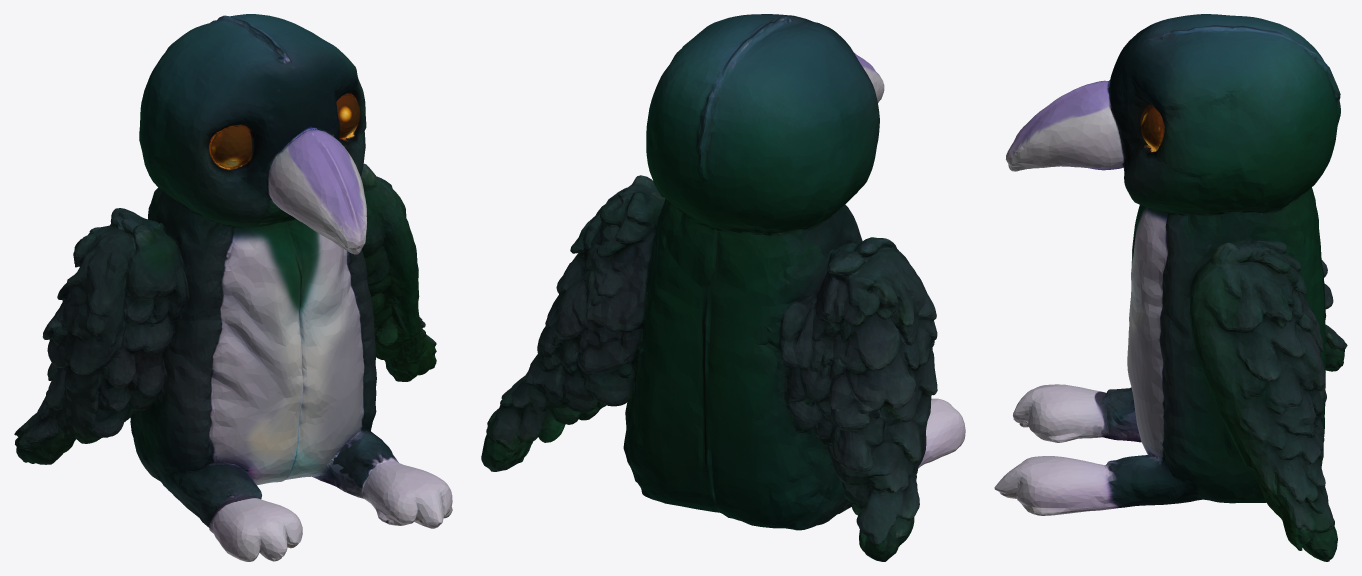
The model's file is corvo_hunyuan.glb.
The picture shows the model from 3 angles, left to right: view 1: azimuth 30°, elevation 25°; view 2: azimuth 150°, elevation 25°; view 3: azimuth 270°, elevation 25°; orthographic projection. The views are drawn at different scales.
Visible parts, largest first — view 1: textured_mesh.obj; view 2: textured_mesh.obj; view 3: textured_mesh.obj.
Boxes of the visible parts, x1=… form: textured_mesh.obj: x1=14, y1=14, x2=452, y2=561; textured_mesh.obj: x1=481, y1=14, x2=965, y2=561; textured_mesh.obj: x1=994, y1=14, x2=1347, y2=561.
Bounding box in the file's own units: 1.92 × 1.98 × 1.44.
1 material, 1 textured.
